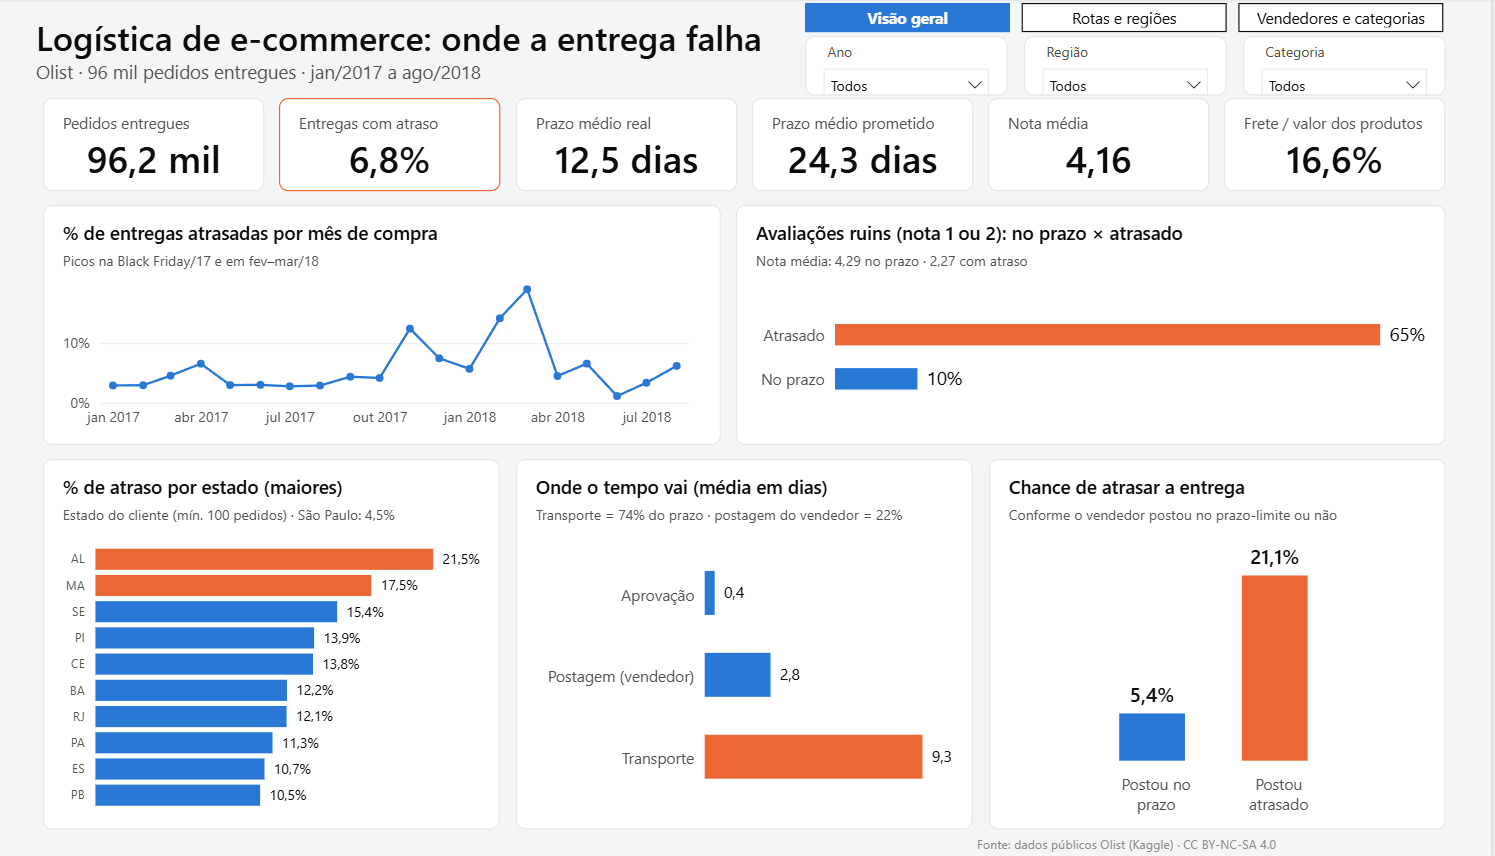

What the dashboard file says about the page in this screenshot:
{"tool":"powerbi","page":{"name":"Visão geral","canvas":[1920,1080],"ordinal":0},"visuals":[{"type":"cardVisual","fields":{"Data":["_Medidas.Pedidos Entregues","_Medidas.% Atraso","_Medidas.Prazo Médio Real","_Medidas.Prazo Médio Prometido","_Medidas.Nota Média","_Medidas.% Frete sobre Produtos"]},"box":[0,130.7,1920,247],"z":0},{"type":"textbox","box":[30.3,46.2,720.2,44.6],"z":1000},{"type":"textbox","box":[30.3,103.6,450.9,38.2],"z":2000},{"type":"lineChart","title":"Atrasos disparam na Black Friday e no início de 2018","fields":{"Category":["dim_calendario.Mês/Ano"],"Y":["_Medidas.% Atraso"]},"box":[0,337.8,960.8,369.7],"z":3000},{"type":"barChart","title":"Com atraso, avaliações ruins saltam para 61%","fields":{"Category":["fato_pedidos.situacao_entrega"],"Y":["_Medidas.% Avaliações Ruins"]},"box":[994.3,337.8,925.7,369.7],"z":4000},{"type":"barChart","title":"Nordeste concentra os maiores atrasos","fields":{"Category":["dim_estado.uf"],"Y":["_Medidas.% Atraso"]},"box":[0,707.5,672.4,372.8],"z":5000},{"type":"barChart","title":"Transporte é 74% do tempo de entrega","fields":{"Y":["_Medidas.Tempo Aprovação","_Medidas.Tempo Postagem","_Medidas.Tempo Transporte"]},"box":[705.9,707.5,659.7,371.3],"z":6000},{"type":"columnChart","title":"Postagem atrasada quase quadruplica o risco","fields":{"Category":["fato_pedidos.situacao_postagem"],"Y":["_Medidas.% Atraso"]},"box":[1379.9,707.5,540.1,372.8],"z":7000}]}

Visuals, with their boxes in screenshot pixels (x1, y1, x2, y2), scaled from the page's 1920x1080 canvas onto the 1495x856 screenshot:
cardVisual - _Medidas.Pedidos Entregues x _Medidas.% Atraso: (0,104,1494,299)
textbox: (24,37,584,72)
textbox: (24,82,375,112)
"Atrasos disparam na Black Friday e no início de 2018" lineChart: (0,268,748,561)
"Com atraso, avaliações ruins saltam para 61%" barChart: (774,268,1494,561)
"Nordeste concentra os maiores atrasos" barChart: (0,561,524,855)
"Transporte é 74% do tempo de entrega" barChart: (550,561,1063,855)
"Postagem atrasada quase quadruplica o risco" columnChart: (1074,561,1494,855)
